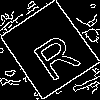R: (24, 25, 83, 83)
